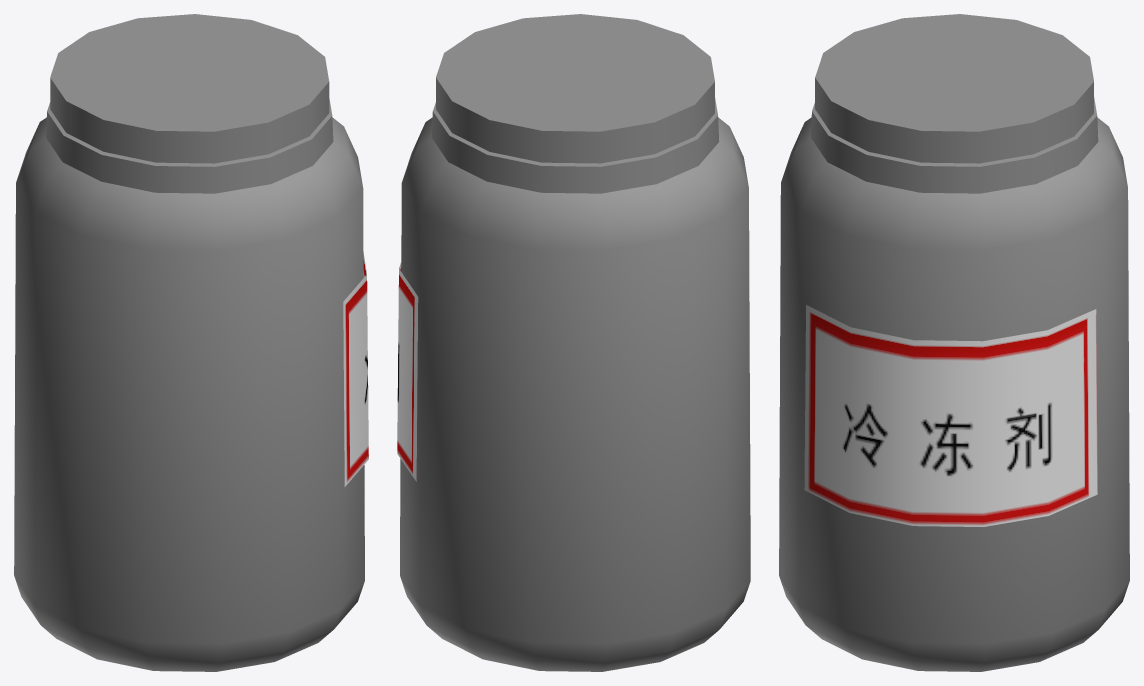
The model's file is SM_冷冻剂.FBX.
3 renders of one model, left to right at view 1: azimuth 30°, elevation 25°; view 2: azimuth 150°, elevation 25°; view 3: azimuth 270°, elevation 25°, orthographic.
Parts seen in each view (by area): view 1: SM_冷冻剂_瓶体, SM_冷冻剂_盖子; view 2: SM_冷冻剂_瓶体, SM_冷冻剂_盖子; view 3: SM_冷冻剂_瓶体, SM_冷冻剂_盖子.
Boxes of the visible parts, x1,y1,x2,y2 form: SM_冷冻剂_瓶体: (14, 98, 368, 671); SM_冷冻剂_盖子: (50, 14, 329, 163); SM_冷冻剂_瓶体: (397, 98, 750, 671); SM_冷冻剂_盖子: (436, 14, 714, 163); SM_冷冻剂_瓶体: (779, 97, 1129, 671); SM_冷冻剂_盖子: (815, 14, 1093, 163).
Bounding box in the file's own units: 49.41 × 83.37 × 48.81.
